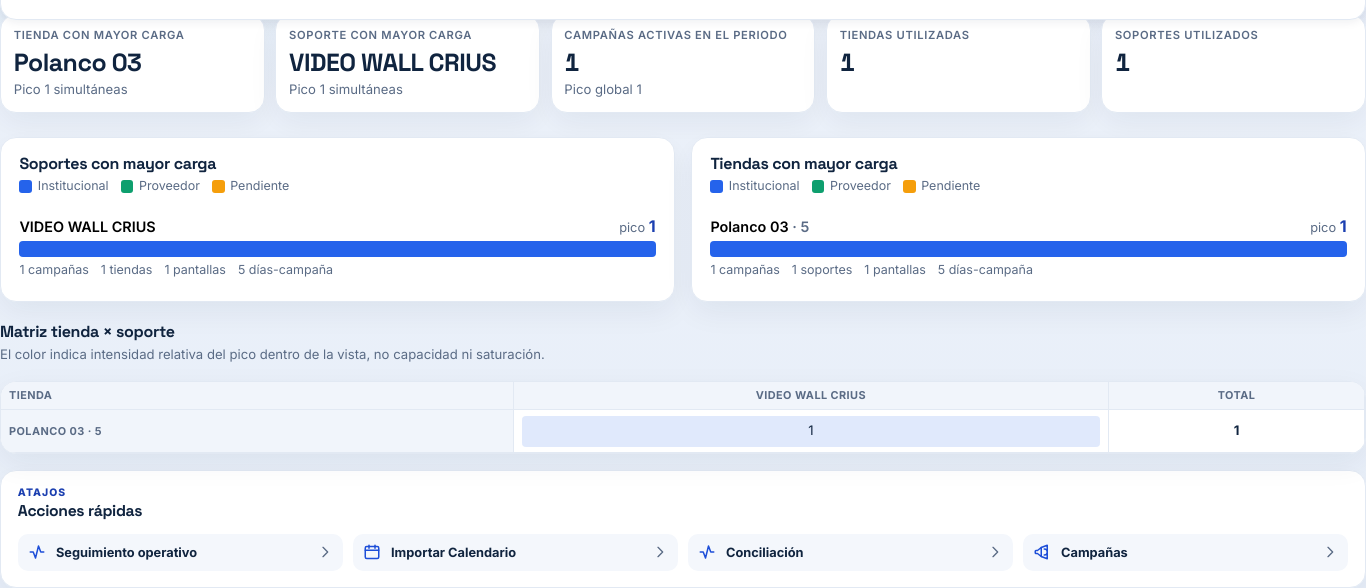
DashboardPage — carga por tienda y soporte › abre el detalle de una tienda
(page scrolled)
What coordinates should you click on to do the following:
click the button with aria-label "Polanco 03, tienda 5."
I would click on:
 (1028, 246)
Its box is [710,208,1347,285].
(page scrolled)
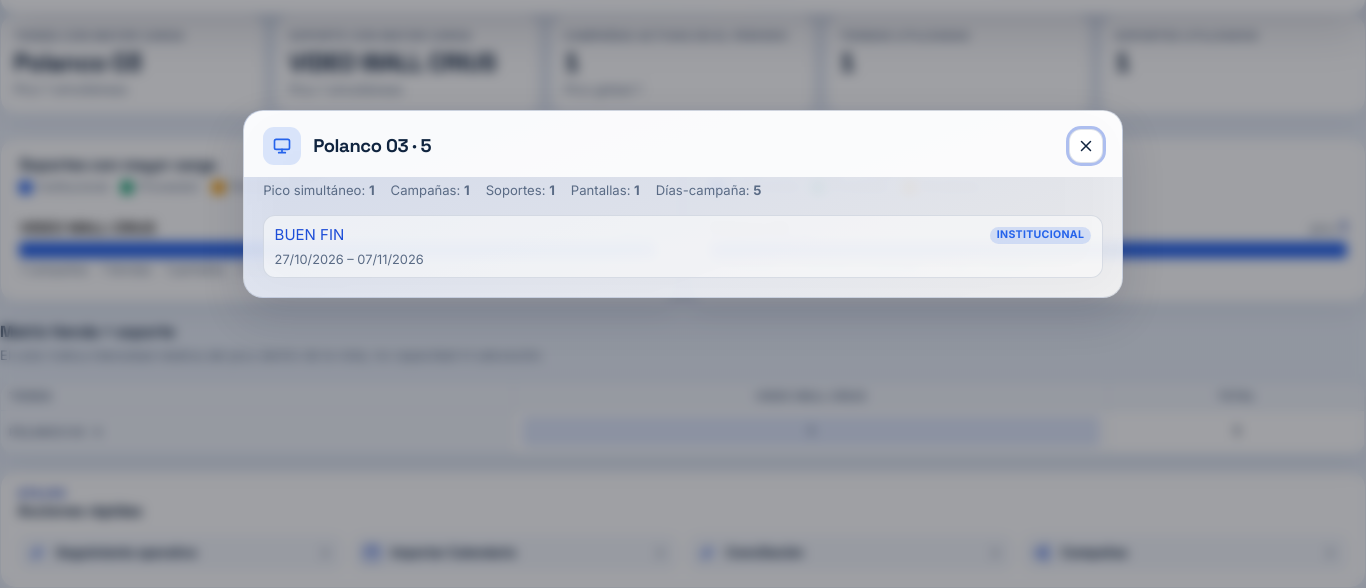
Expected: the dialog is shown, [243,110,1123,298]
